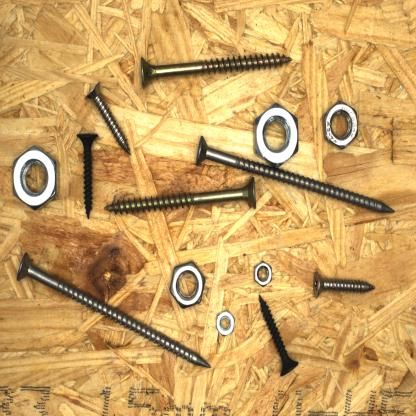screw: (14, 249, 215, 372), (193, 132, 398, 215), (139, 50, 295, 92), (102, 174, 258, 216), (82, 79, 134, 157), (256, 292, 302, 379), (74, 128, 100, 223), (310, 268, 378, 302)
